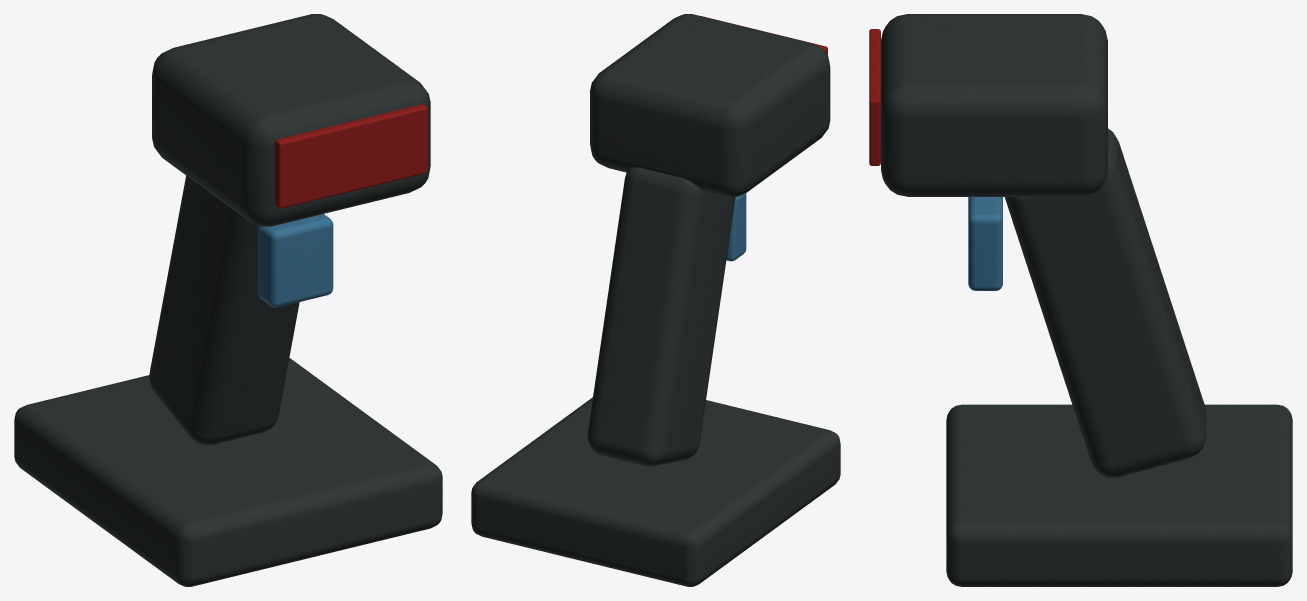
Rendered from barcode-scanner.glb.
3 renders of one model, left to right at view 1: azimuth 30°, elevation 25°; view 2: azimuth 150°, elevation 25°; view 3: azimuth 270°, elevation 25°, orthographic. The views are drawn at different scales.
Visible parts, largest first — view 1: Scanner cradle foot, Scanner optical head, Scanner grip, Red optical scan window, Scanner trigger; view 2: Scanner cradle foot, Scanner optical head, Scanner grip, Scanner trigger; view 3: Scanner cradle foot, Scanner optical head, Scanner grip, Scanner trigger, Red optical scan window.
Boxes of the visible parts, left/top/right/bottom form: Scanner cradle foot: left=14, top=358, right=442, bottom=586; Scanner optical head: left=152, top=14, right=430, bottom=226; Scanner grip: left=149, top=175, right=299, bottom=444; Red optical scan window: left=274, top=104, right=427, bottom=208; Scanner trigger: left=258, top=214, right=333, bottom=307; Scanner cradle foot: left=471, top=397, right=840, bottom=586; Scanner optical head: left=590, top=14, right=830, bottom=197; Scanner grip: left=587, top=167, right=735, bottom=466; Scanner trigger: left=726, top=193, right=746, bottom=261; Scanner cradle foot: left=946, top=404, right=1292, bottom=586; Scanner optical head: left=881, top=14, right=1107, bottom=196; Scanner grip: left=1004, top=128, right=1205, bottom=477; Scanner trigger: left=968, top=197, right=1002, bottom=290; Red optical scan window: left=869, top=29, right=880, bottom=165.
Size of the model in its own units: 0.105 by 0.181 by 0.1455.
3 materials, 3 textured.
